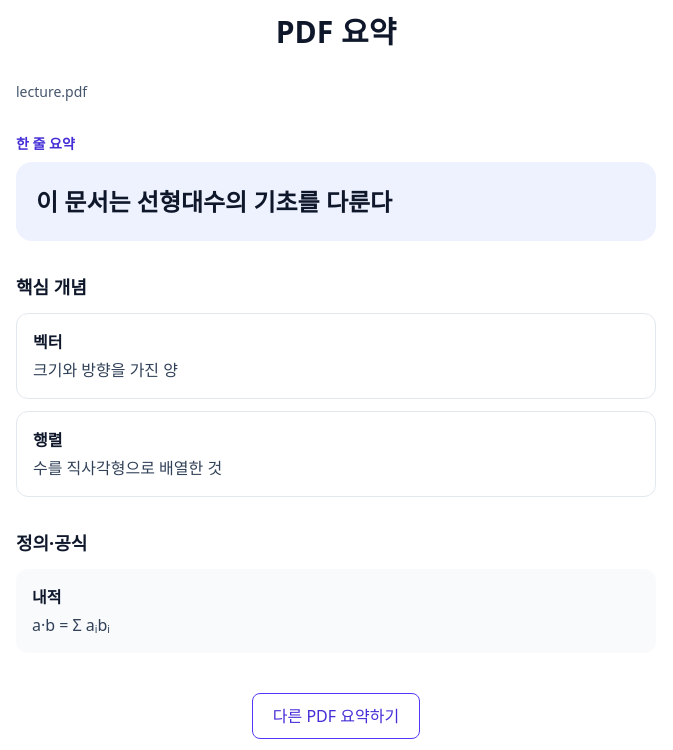
SummaryApp › 다른 PDF 요약하기를 누르면 처음 화면
The image size is (673, 750).
Earlier steps of the test are not shown.
Check: the text "이 문서는 선형대수의 기초를 다룬다" is shown, box [16,162,656,241]
What coordinates should you click on to do the following:
click the button "다른 PDF 요약하기"
I would click on:
 (336, 716)
Its box is [252,693,420,739].
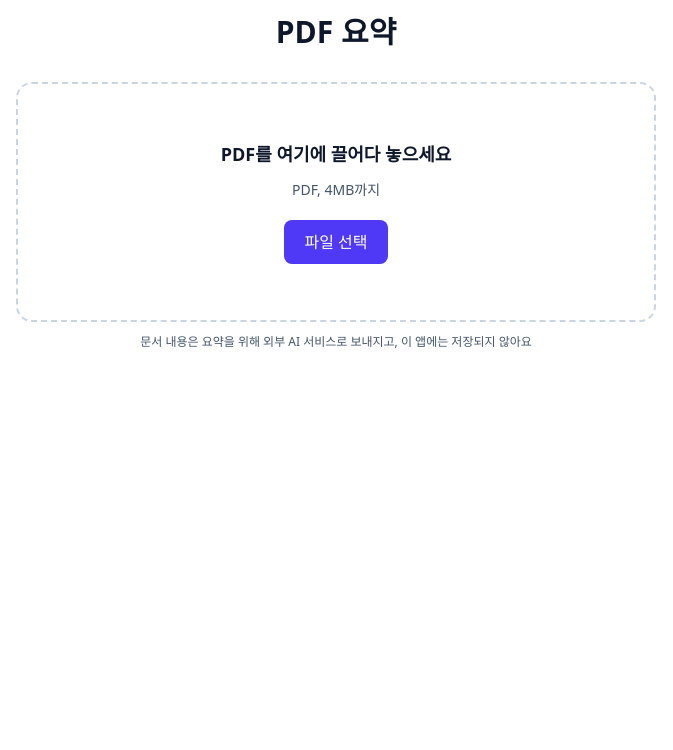
Check: the text "PDF를 여기에 끌어다 놓으세요" is shown, box [221,140,451,168]
Check: the text "이 문서는 선형대수의 기초를 다룬다" is gone
